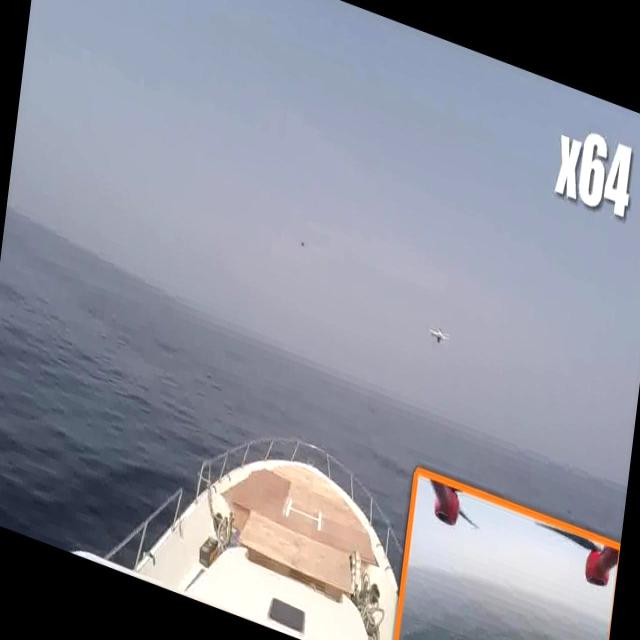drone: (422, 314, 453, 356)
